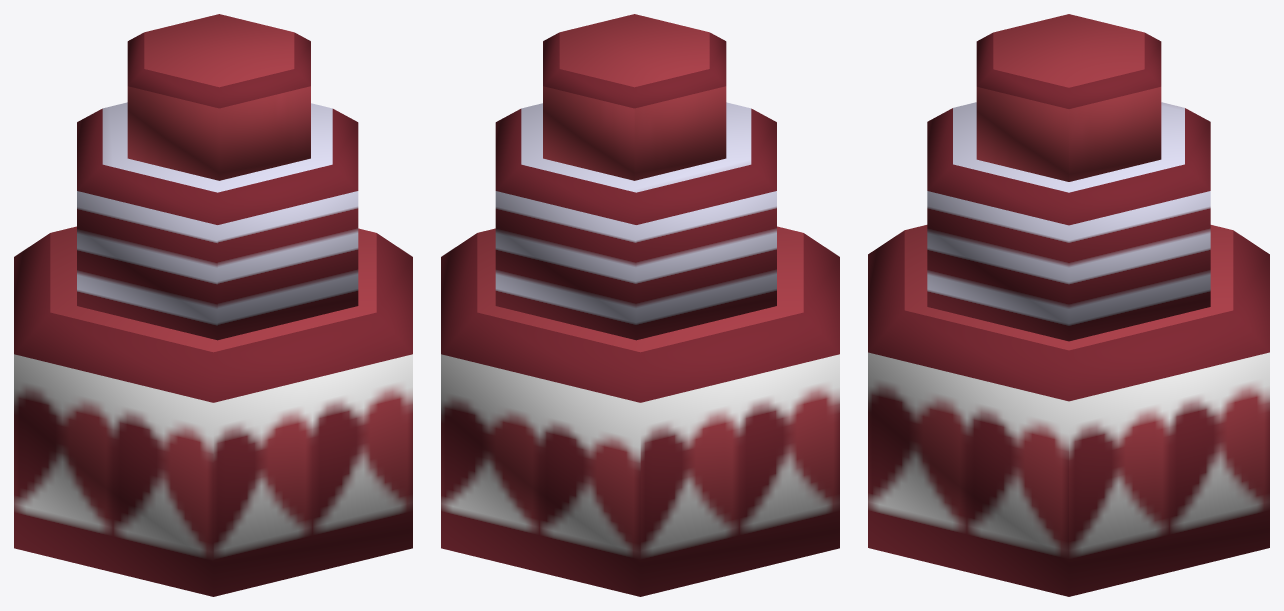
The model's file is Wedding_Cake_D.FBX.
3 renders of one model, left to right at view 1: azimuth 30°, elevation 25°; view 2: azimuth 150°, elevation 25°; view 3: azimuth 270°, elevation 25°, orthographic.
Parts seen in each view (by area): view 1: Wedding_Cake_A; view 2: Wedding_Cake_A; view 3: Wedding_Cake_A.
Part boxes in pixels (box(x1,y1,x2,y2)): Wedding_Cake_A: box(14, 14, 412, 596); Wedding_Cake_A: box(441, 14, 839, 596); Wedding_Cake_A: box(868, 14, 1269, 596).
Bounding box in the file's own units: 102 × 110 × 88.51.
